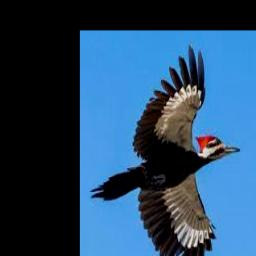Woodpecker: (90, 42, 241, 256)
